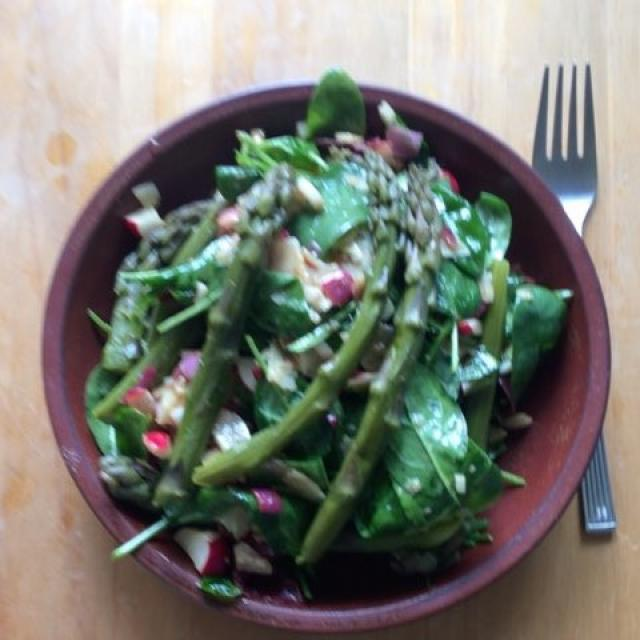green-asparagus: (102, 158, 516, 571)
spinach-raw: (89, 89, 561, 603)
